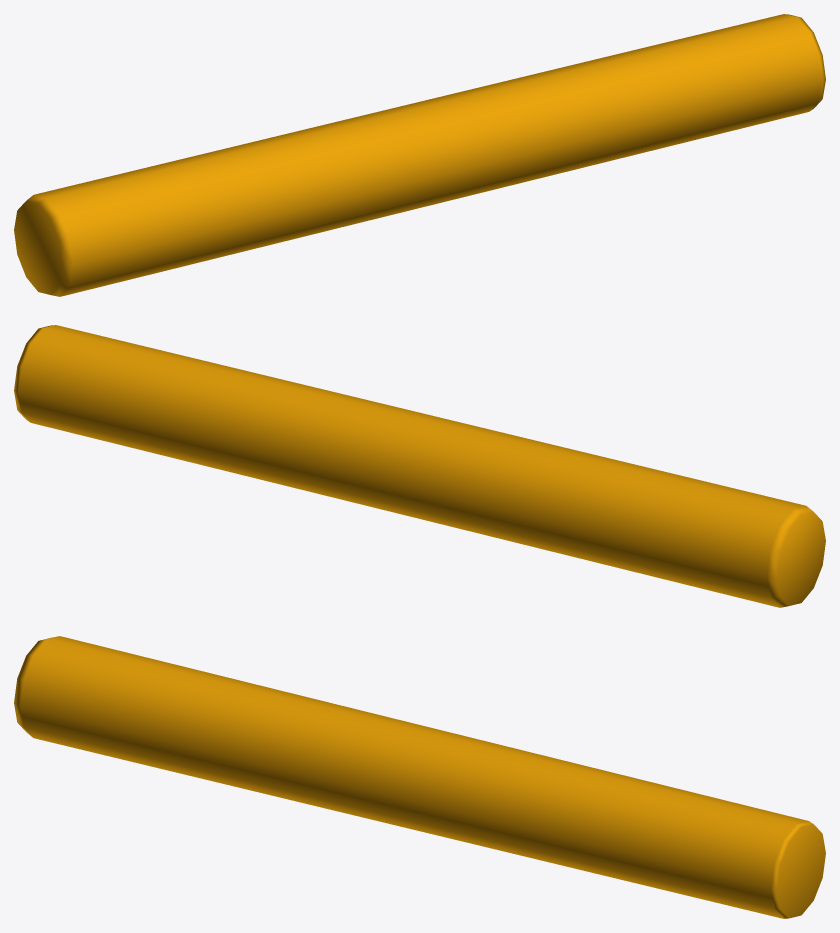
The model's file is Log_05.fbx.
3 views of the same model, one above another, from view 1: azimuth 30°, elevation 25°; view 2: azimuth 150°, elevation 25°; view 3: azimuth 330°, elevation 25° (orthographic).
Visible parts, largest first — view 1: Log_05; view 2: Log_05; view 3: Log_05.
Boxes of the visible parts, left/top/right/bottom form: Log_05: left=14, top=14, right=825, bottom=296; Log_05: left=14, top=325, right=825, bottom=607; Log_05: left=14, top=636, right=825, bottom=918.
Bounding box in the file's own units: 146 × 17.44 × 17.44.
